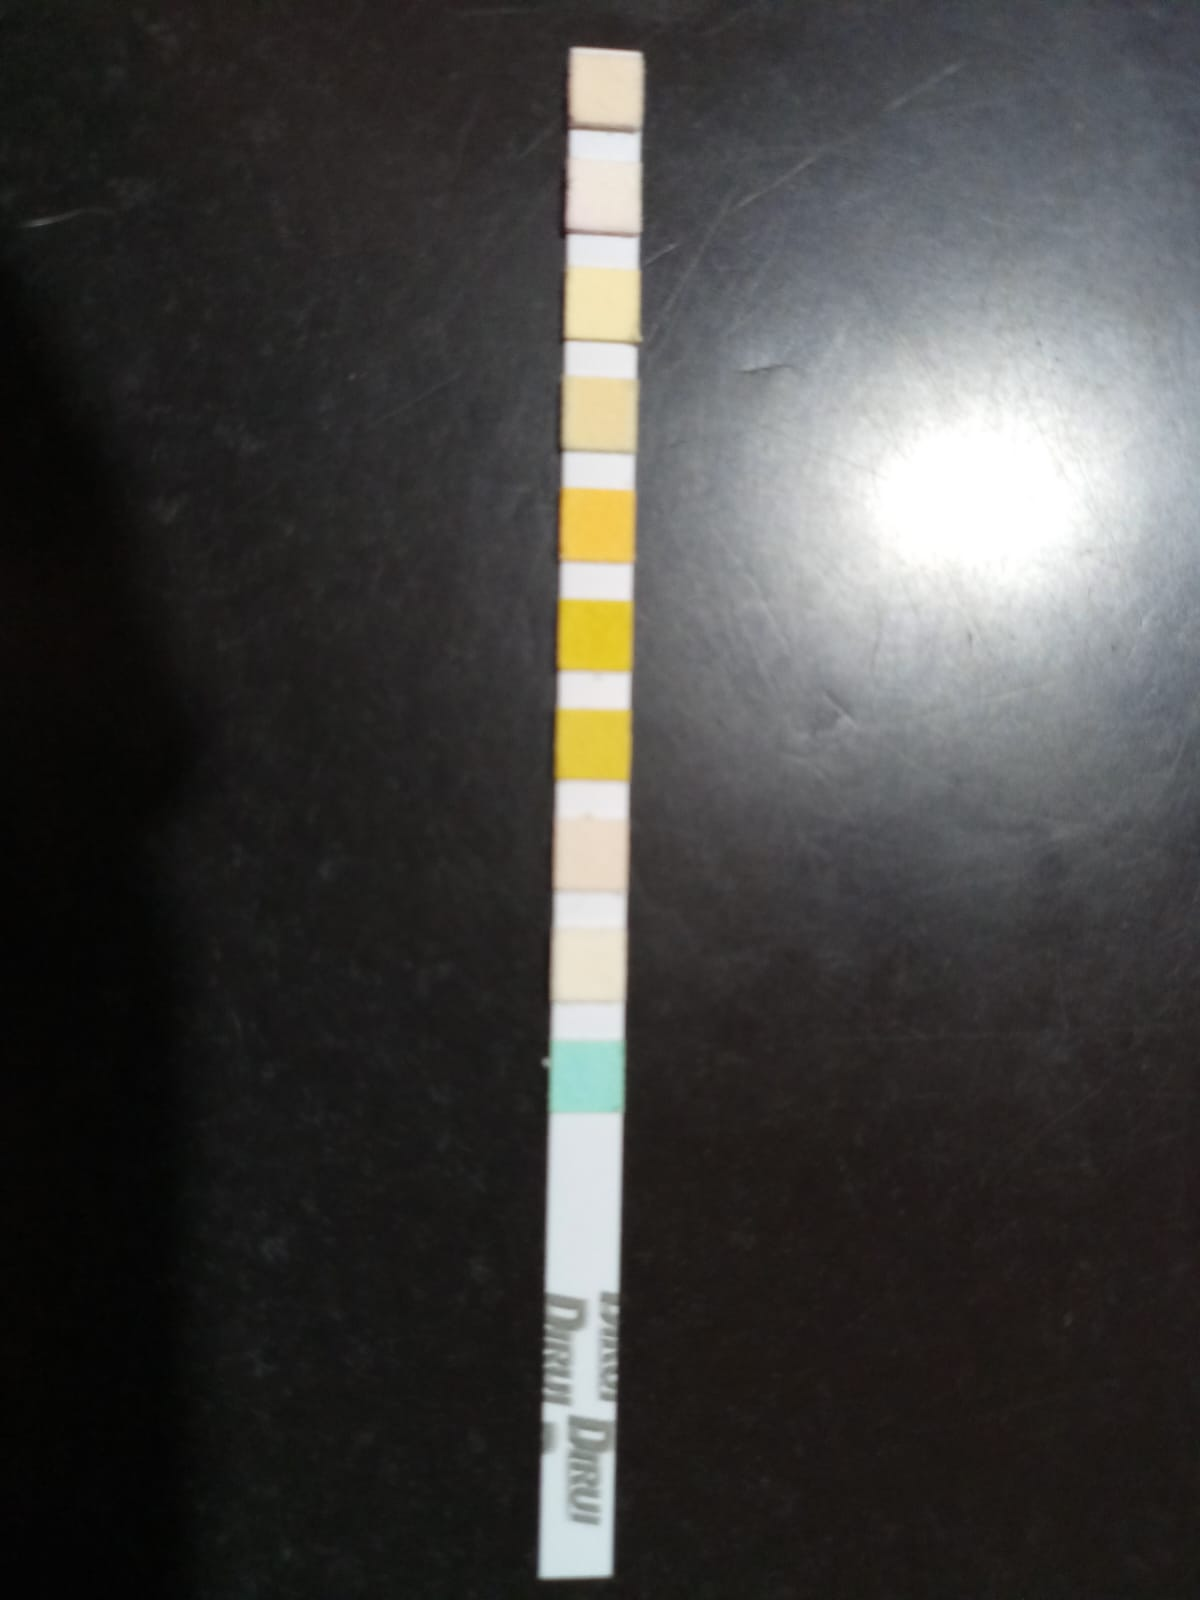color 1: (574, 55, 639, 122)
color 10: (551, 1046, 621, 1107)
color 2: (571, 164, 637, 228)
color 3: (571, 272, 635, 339)
color 4: (566, 383, 634, 447)
color 5: (565, 493, 630, 556)
color 6: (561, 603, 628, 666)
color 7: (558, 716, 625, 774)
color 8: (557, 824, 624, 886)
color 9: (553, 930, 621, 997)
